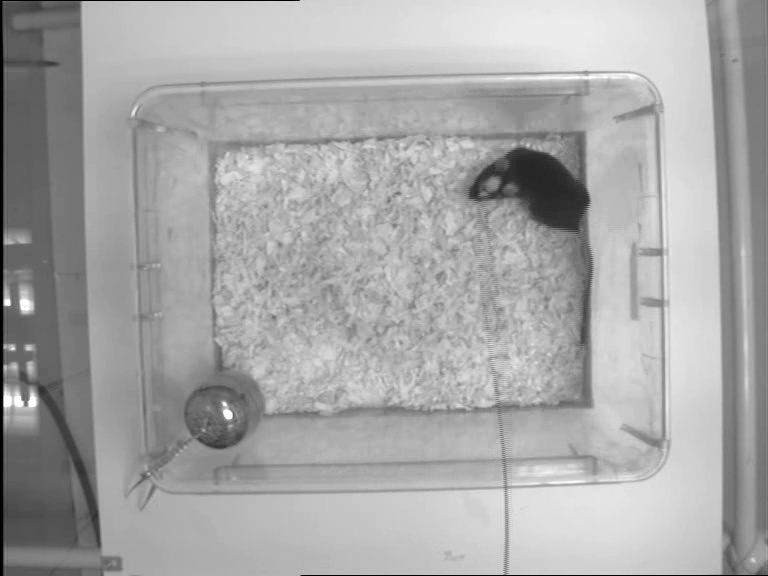mice: (467, 146, 593, 344)
